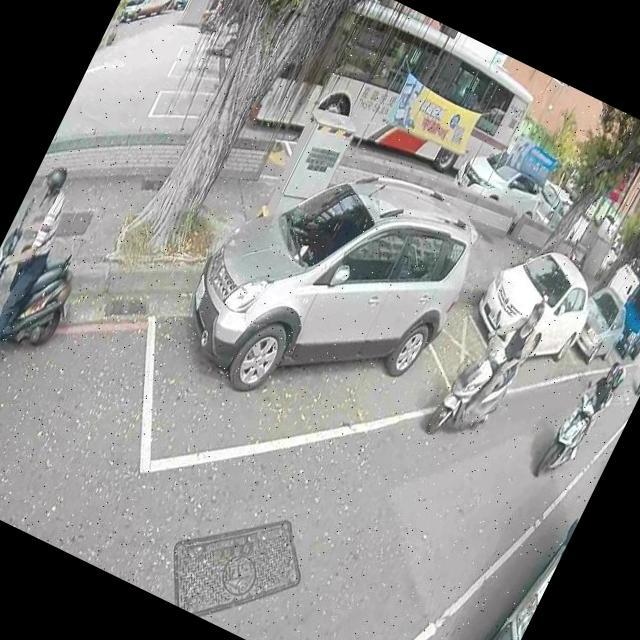person: (0, 154, 90, 399), (447, 284, 552, 433), (554, 348, 628, 463), (560, 355, 628, 459), (204, 0, 227, 27)
